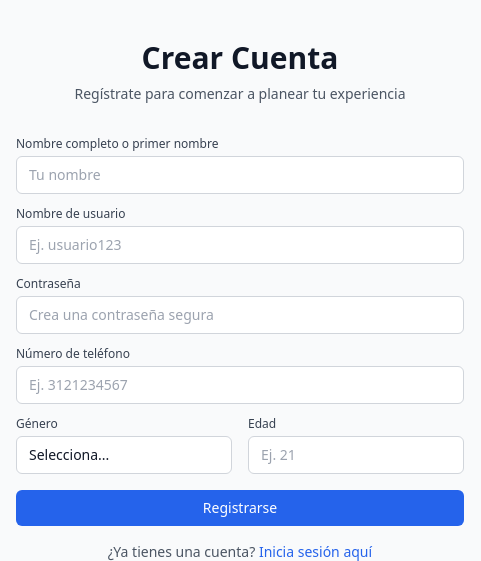
Test case: Pruebas en la página de <Registro /> › 2. Debe mostrar el mensaje de error del backend si el registro falla
Type "Alan" into the field with placeholder "Tu nombre" at [240, 175], box [16,156,464,194]
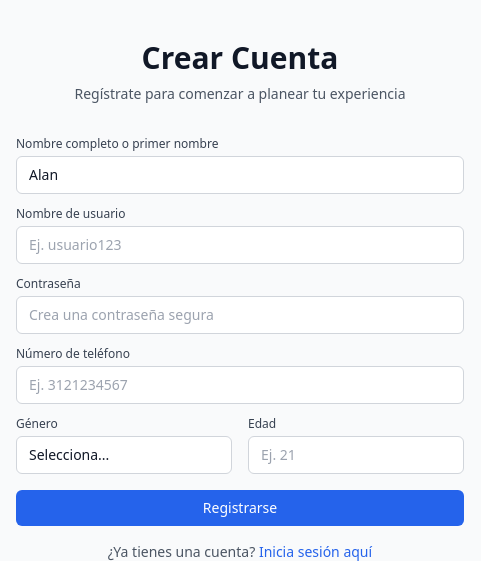
Type "UsuarioRepetido" into the field with placeholder "Ej. usuario123" at [240, 245], box [16,226,464,264]
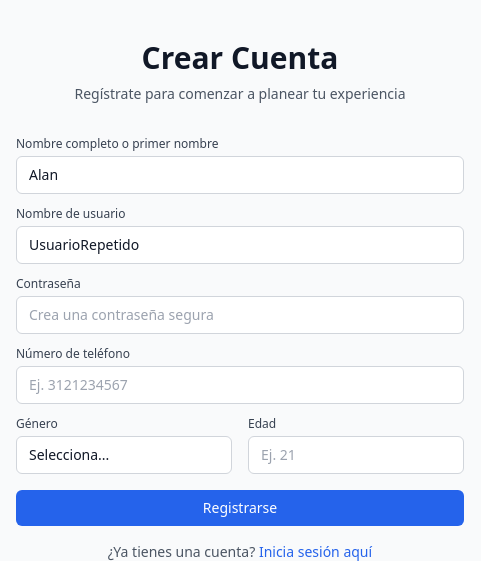
Type "clave123" into the password field with placeholder "Crea una contraseña segura" at [240, 315], box [16,296,464,334]
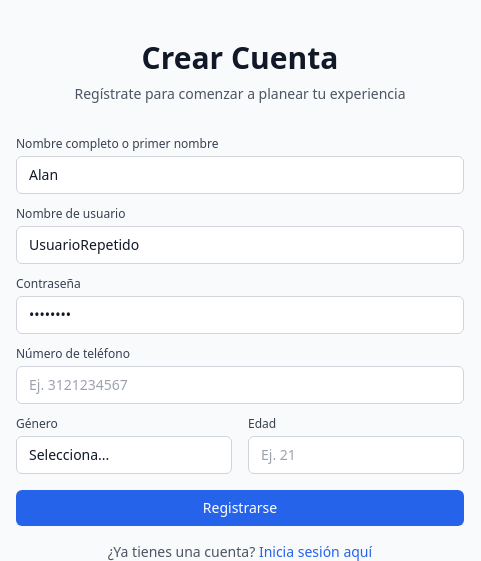
Click the button "Registrarse" at [240, 508], box [16,490,464,526]
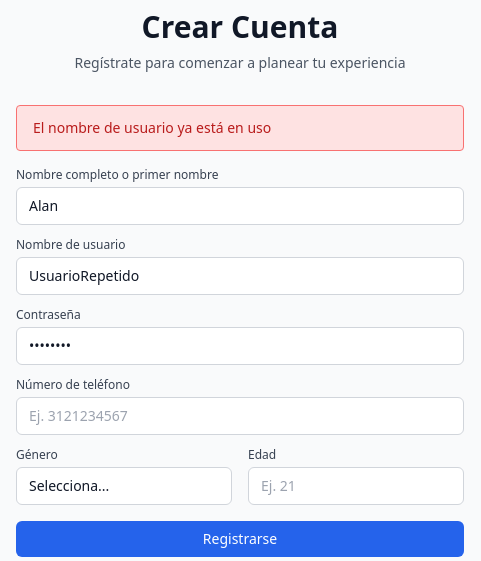
Check: the text "El nombre de usuario ya está en uso" is shown, box [33,118,271,137]
